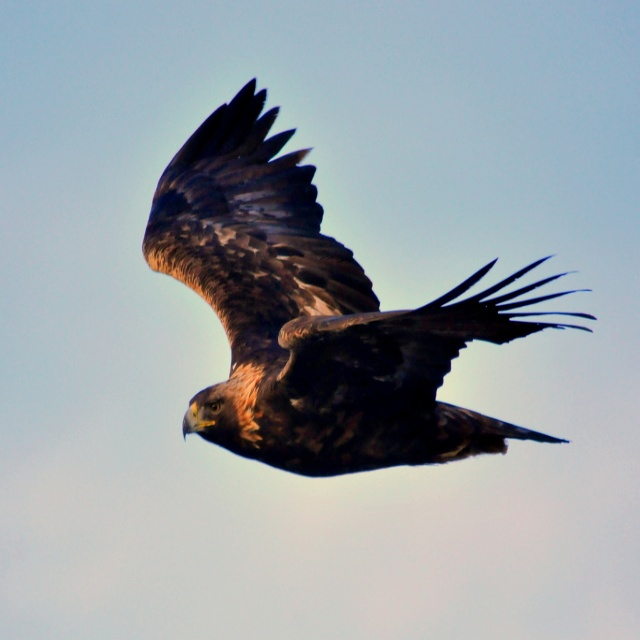Eagle: (140, 68, 598, 482)
